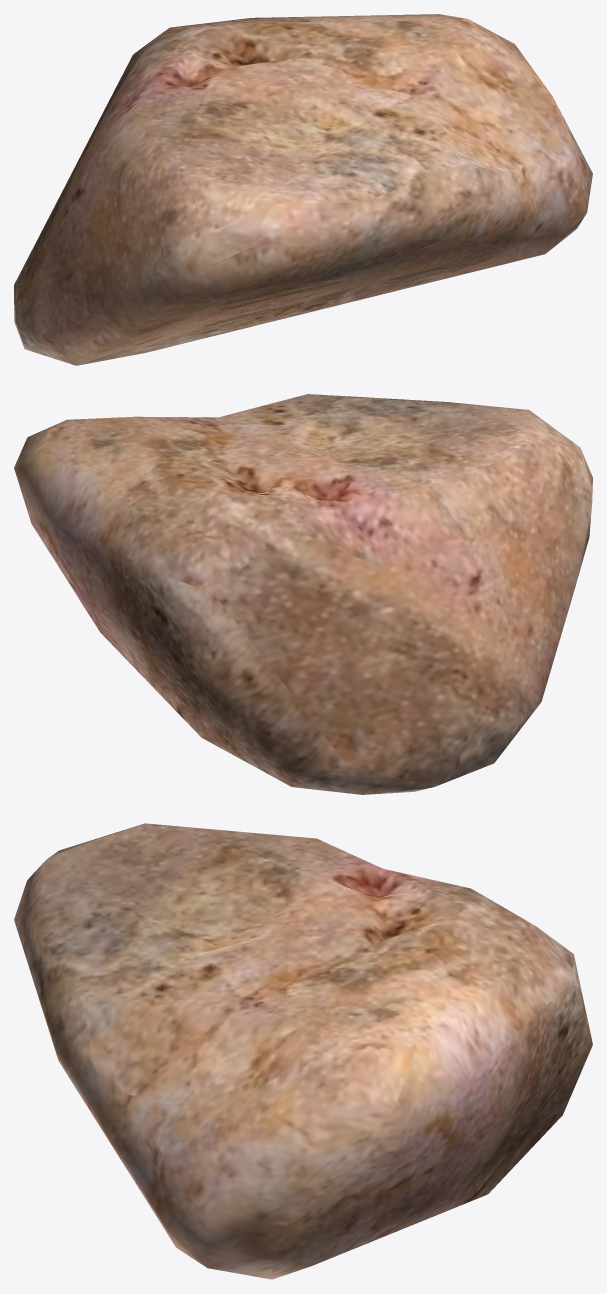
File: rock058.glb
3 renders of one model, top to bottom at view 1: azimuth 30°, elevation 25°; view 2: azimuth 150°, elevation 25°; view 3: azimuth 270°, elevation 25°, orthographic. The views are drawn at different scales.
Visible parts, largest first — view 1: rock058; view 2: rock058; view 3: rock058.
Part boxes in pixels (box(x1,y1,x2,y2)): rock058: box(14, 14, 592, 365); rock058: box(14, 394, 592, 794); rock058: box(14, 823, 592, 1279).
Bounding box in the file's own units: 0.9891 × 0.4795 × 0.8282.
1 material, 1 textured.
